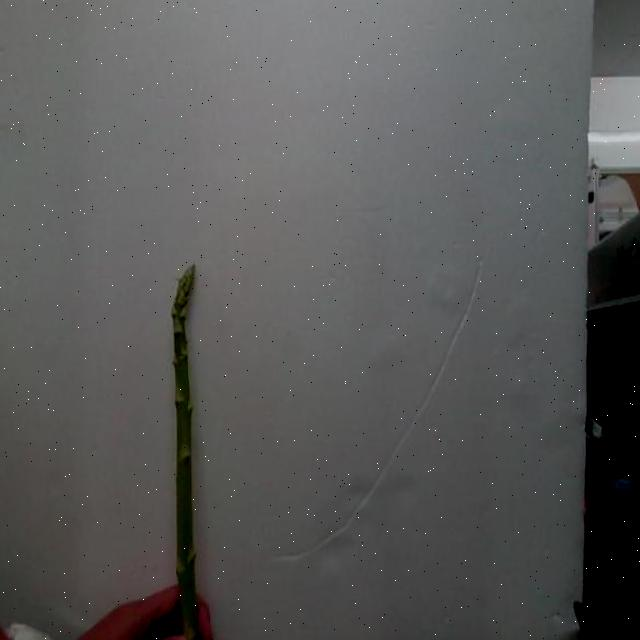aspargus: (173, 267, 204, 640)
